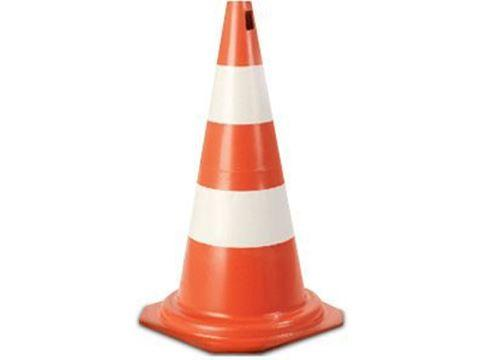traffic_cone: (138, 0, 346, 355)
